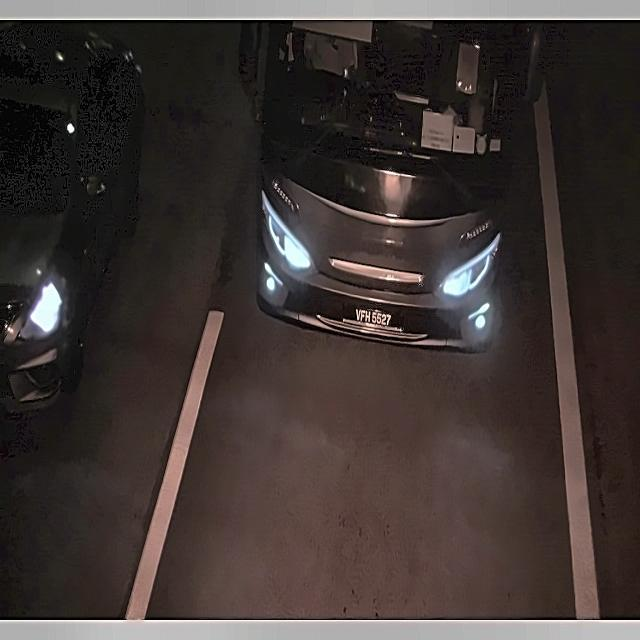car: (342, 299, 410, 339)
